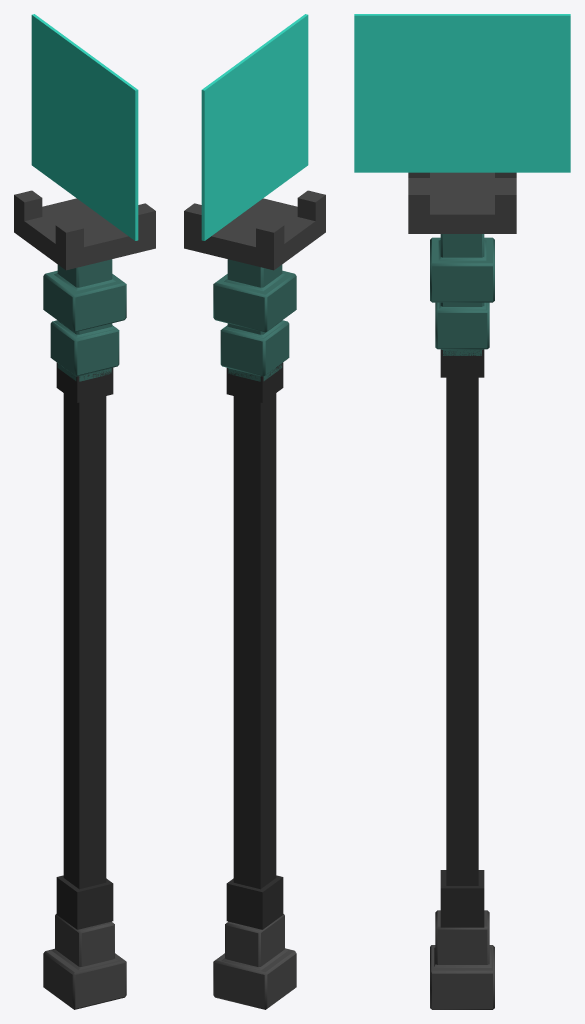
3 renders of one model, left to right at view 1: azimuth 30°, elevation 25°; view 2: azimuth 150°, elevation 25°; view 3: azimuth 270°, elevation 25°, orthographic. The views are drawn at different scales.
Visible parts, largest first — view 1: panel_post; view 2: panel_post; view 3: panel_post.
Part boxes in pixels (box(x1,y1,x2,y2)): panel_post: box(14, 14, 155, 1009); panel_post: box(184, 14, 325, 1009); panel_post: box(354, 14, 570, 1009).
Size of the model in its own units: 0.03 by 0.3 by 0.0599.
